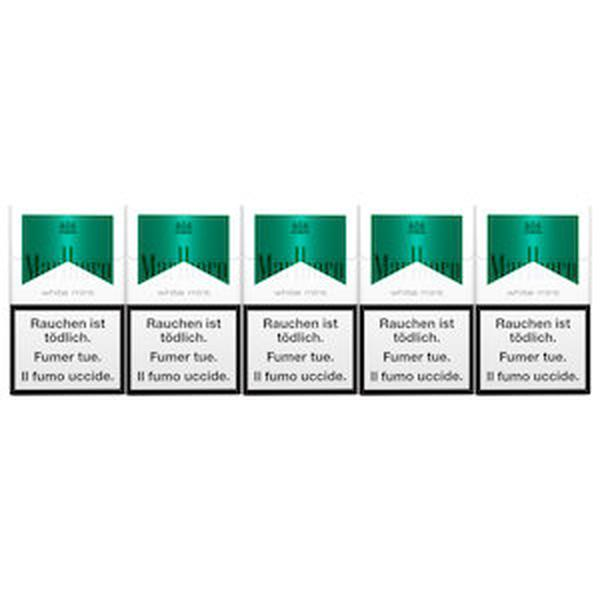marlboro_mentol: (473, 209, 592, 396), (357, 207, 473, 397), (127, 211, 245, 394), (242, 212, 358, 397), (10, 211, 125, 394)
